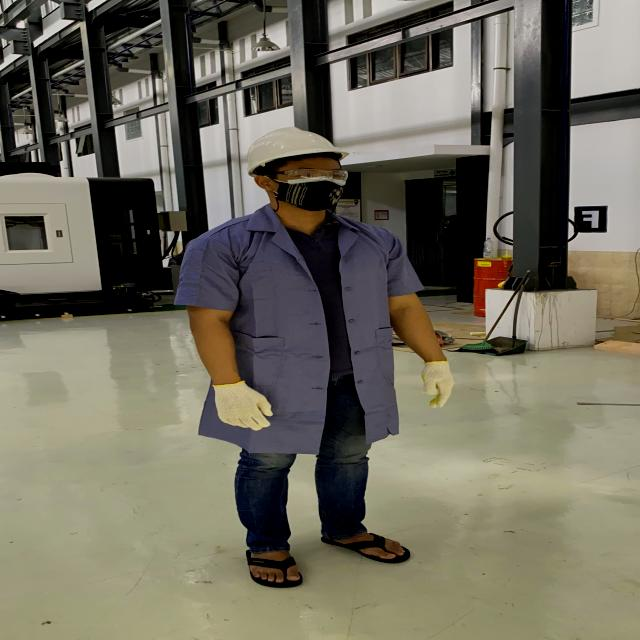face_mask: (271, 167, 354, 209)
glasses: (254, 167, 354, 186)
hand_glove: (206, 376, 284, 434), (414, 356, 465, 404)
head_helmet: (246, 128, 349, 166)
person: (205, 128, 461, 589)
